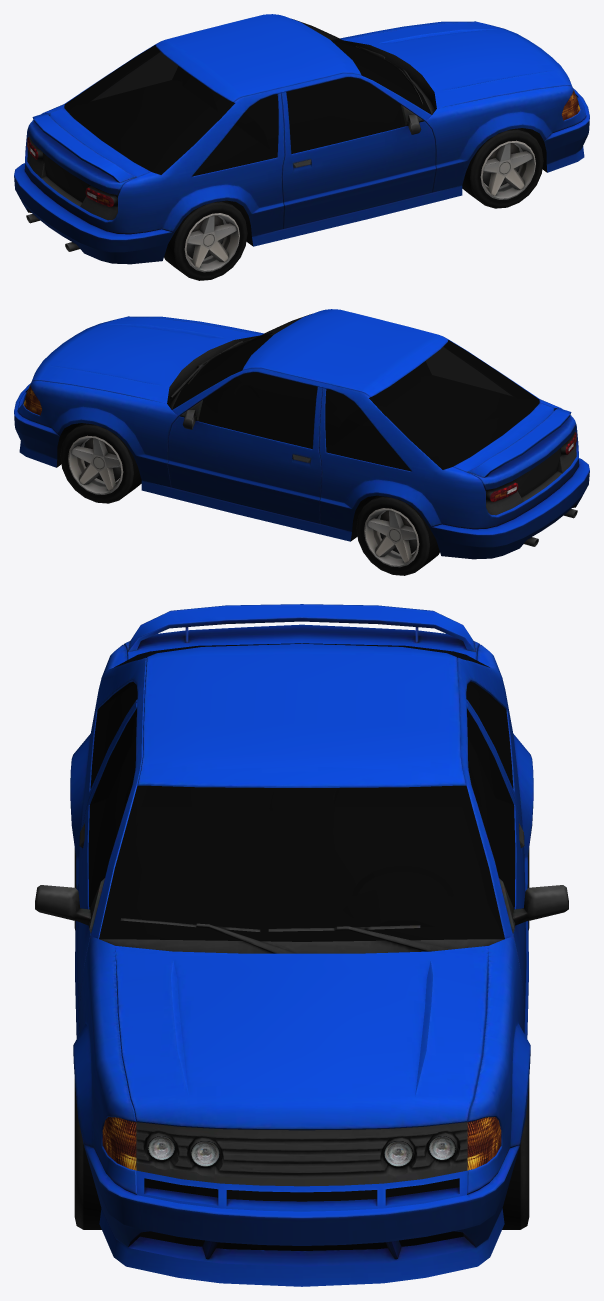
File: coupe.glb
3 renders of one model, top to bottom at view 1: azimuth 30°, elevation 25°; view 2: azimuth 150°, elevation 25°; view 3: azimuth 270°, elevation 25°, orthographic. The views are drawn at different scales.
Parts seen in each view (by area): view 1: body, wheel (×2); view 2: body, wheel (×2); view 3: body, wheel (×2).
Part boxes in pixels (bbox=[...]): body: bbox=[14, 14, 589, 264]; wheel (×2): bbox=[164, 128, 543, 280]; body: bbox=[14, 309, 589, 559]; wheel (×2): bbox=[60, 423, 439, 575]; body: bbox=[35, 604, 568, 1286]; wheel (×2): bbox=[74, 1079, 529, 1229].
Bounding box in the file's own units: 4.24 × 1.28 × 1.88.
Materials: 4 (3 with a texture image).
